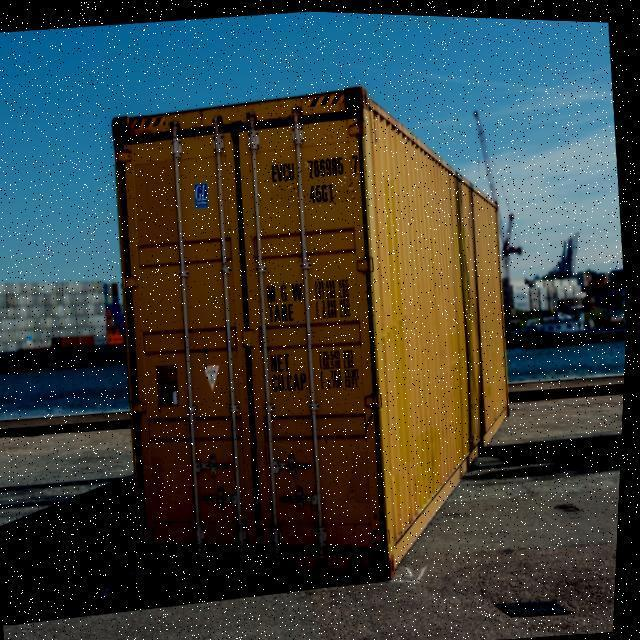container_number_h: (268, 150, 365, 210)
